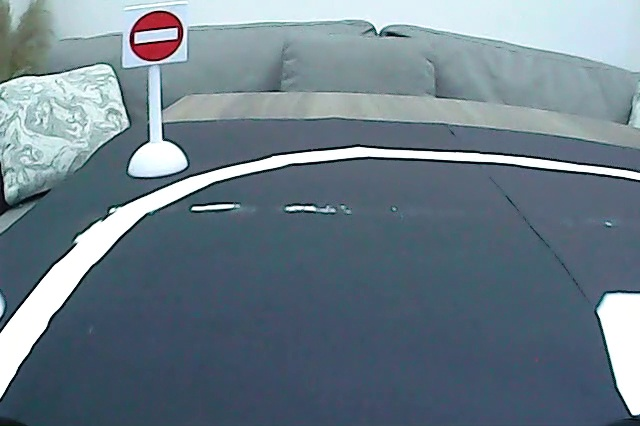do not enter: (124, 6, 186, 63)
